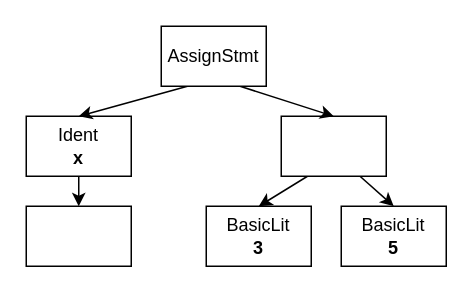
Some shapes in this 473 by 293 pixel diagram are drawn without their labels. Each missing label, with the centre of its shape:
BinaryExpr +: pixel 333 145
Object x: pixel 78 235
